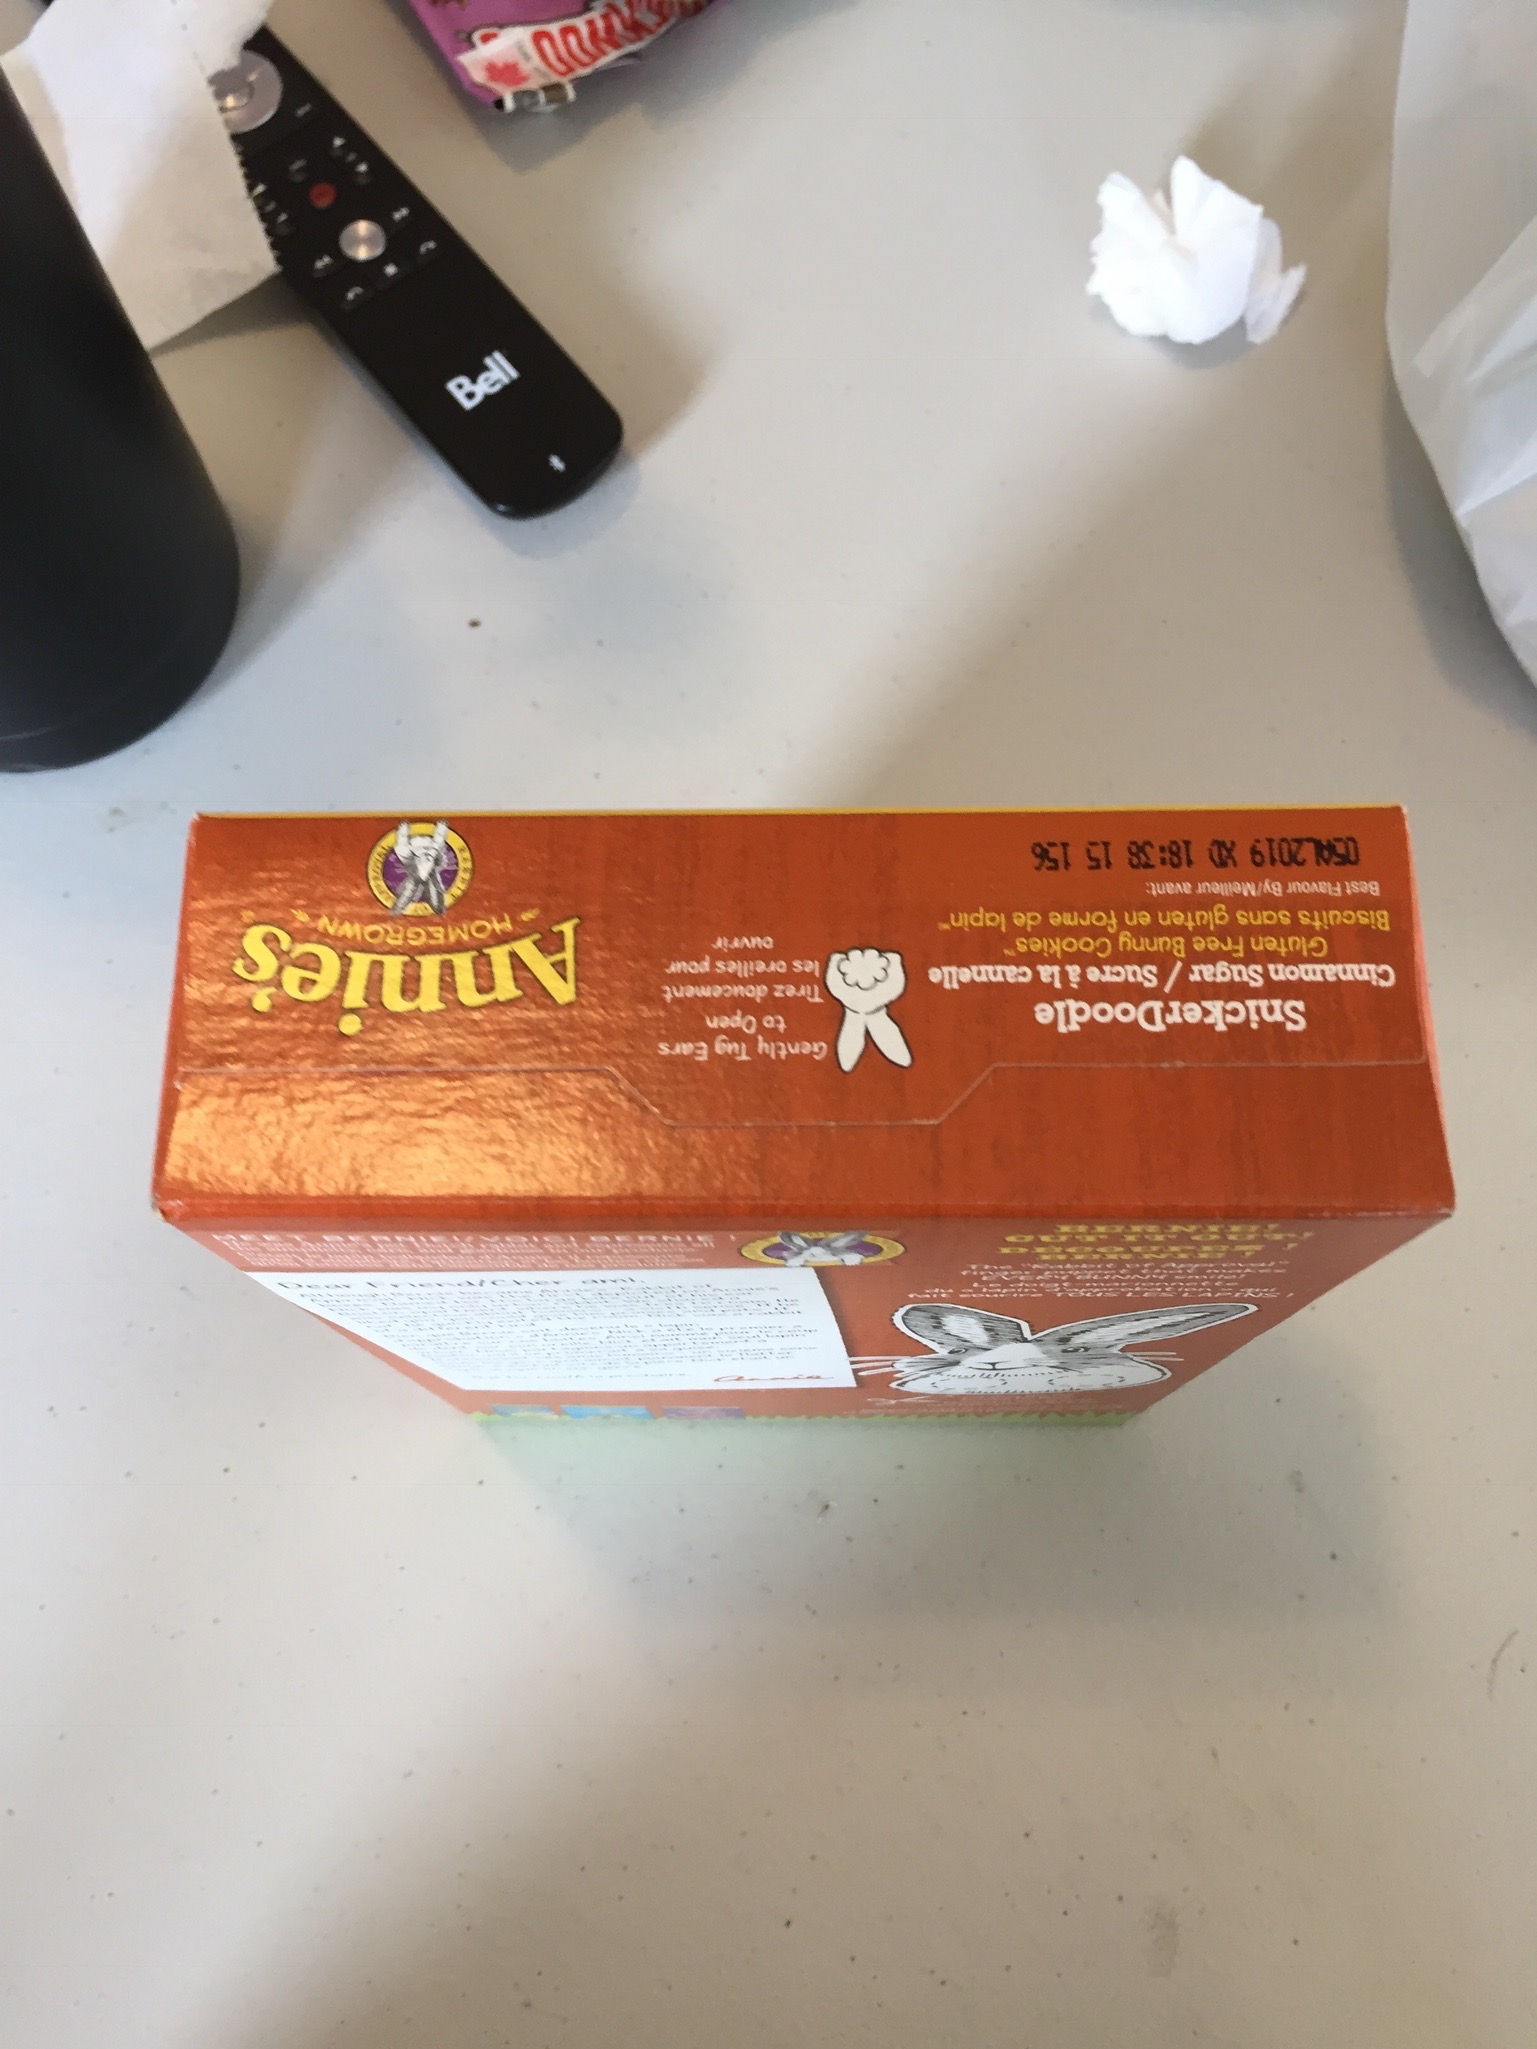annies_snickerdoodles_cinnamon_sugar: (203, 823, 1405, 1172)
